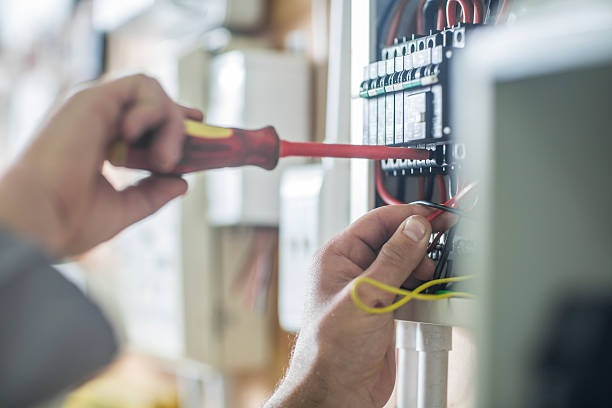screwdriver: (109, 104, 436, 178)
